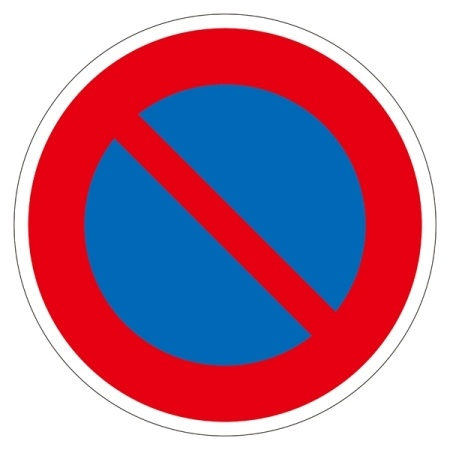Prohibition_sign: (2, 1, 446, 448)
